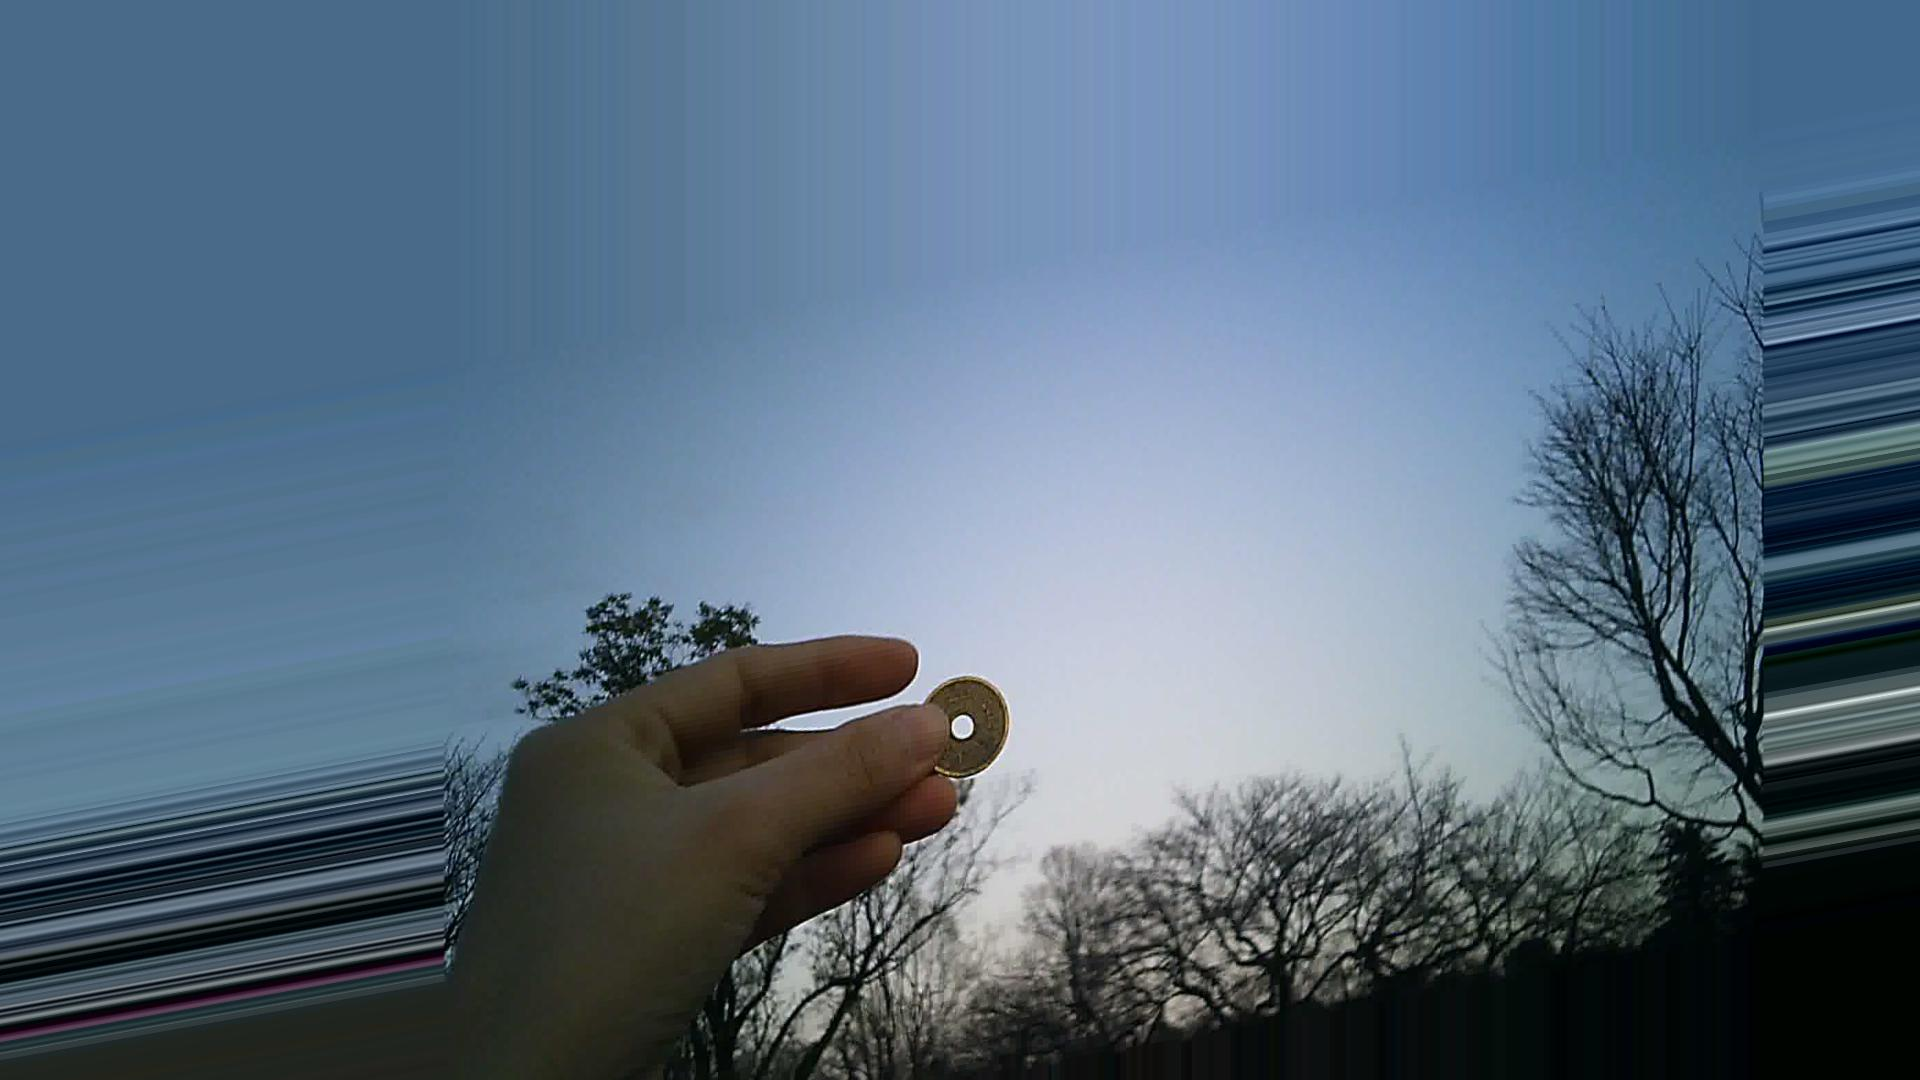5 Yen: (918, 676, 1007, 786)
